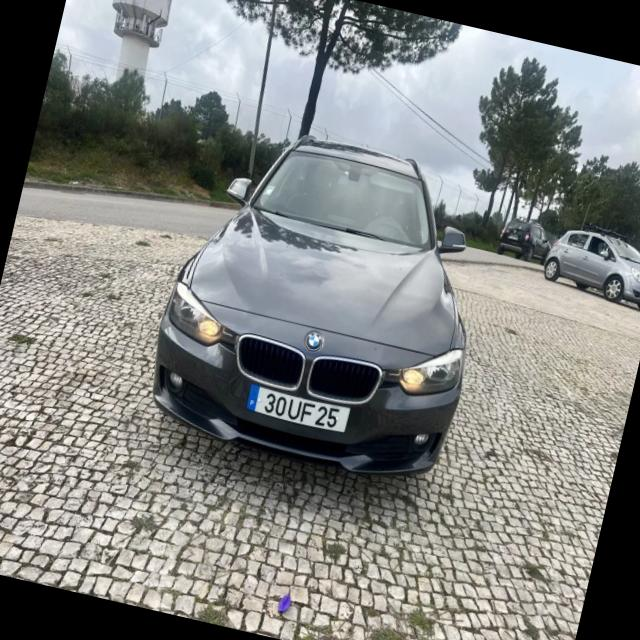portuguese-license-plates: (241, 378, 354, 436)
